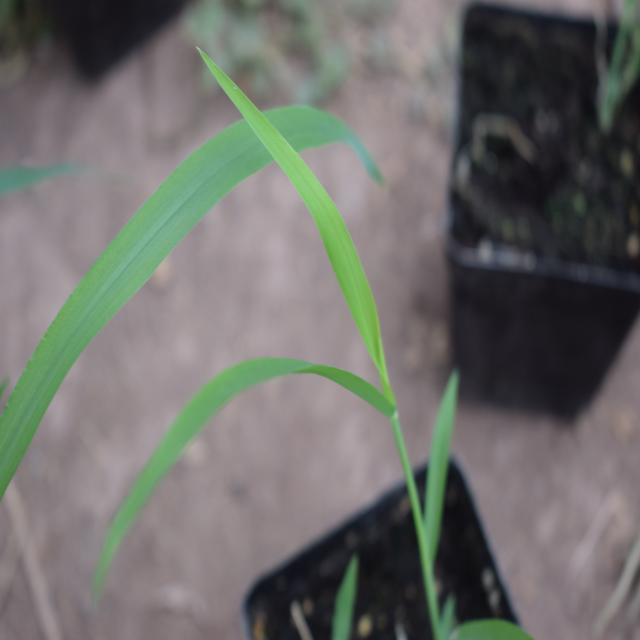crabgrass: (16, 67, 428, 562)
